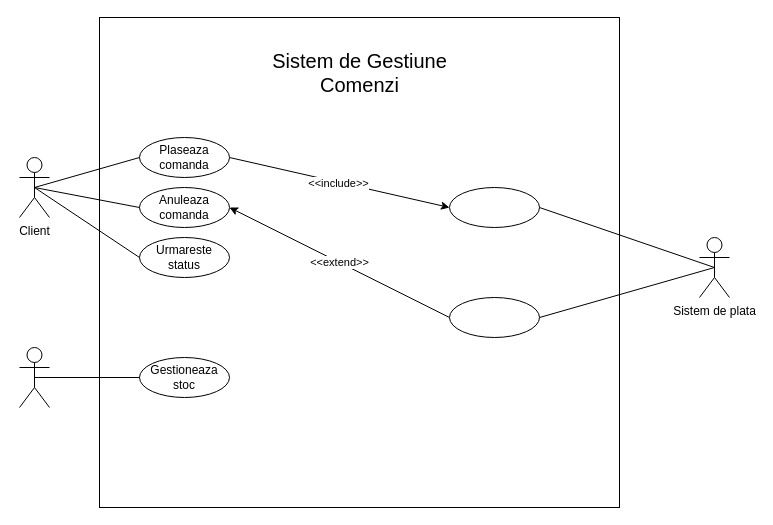
Image size: 773x525. Some labels were removed from this diagram. Each missing label, with the centre of its shape:
Admin: point (34, 377)
Proceseaza plata: point (494, 207)
Ramburseaza plata: point (494, 317)
